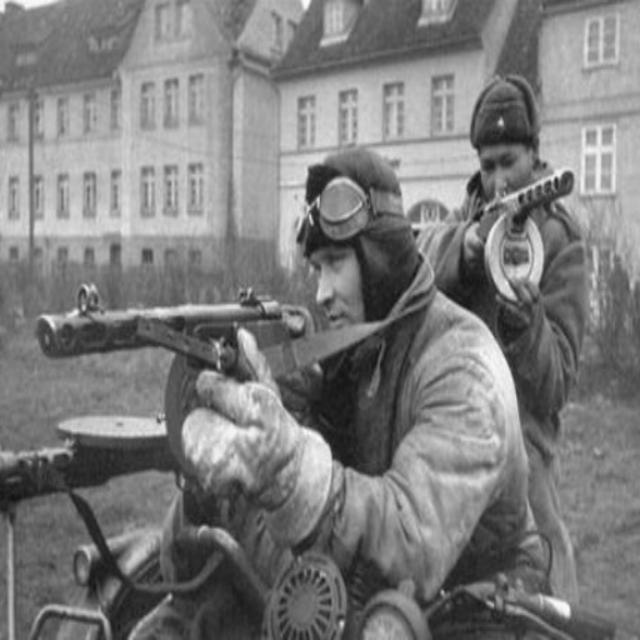other: (193, 148, 487, 580), (421, 75, 584, 445)
